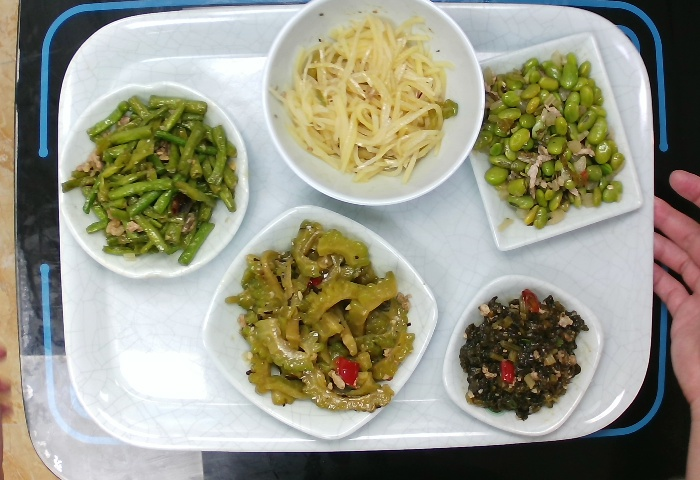JYsf-Ao_Yuan_Wan: (57, 81, 254, 283)
JYsf-Fan_Wan: (261, 1, 484, 210)
JYsf-Si_Fang_Die: (443, 274, 605, 438)
WCQzf-Da_Si_Fang_Die: (201, 205, 436, 441)
WCQzf-Ru_Ci_Si_Fang_Die: (457, 33, 645, 256)
